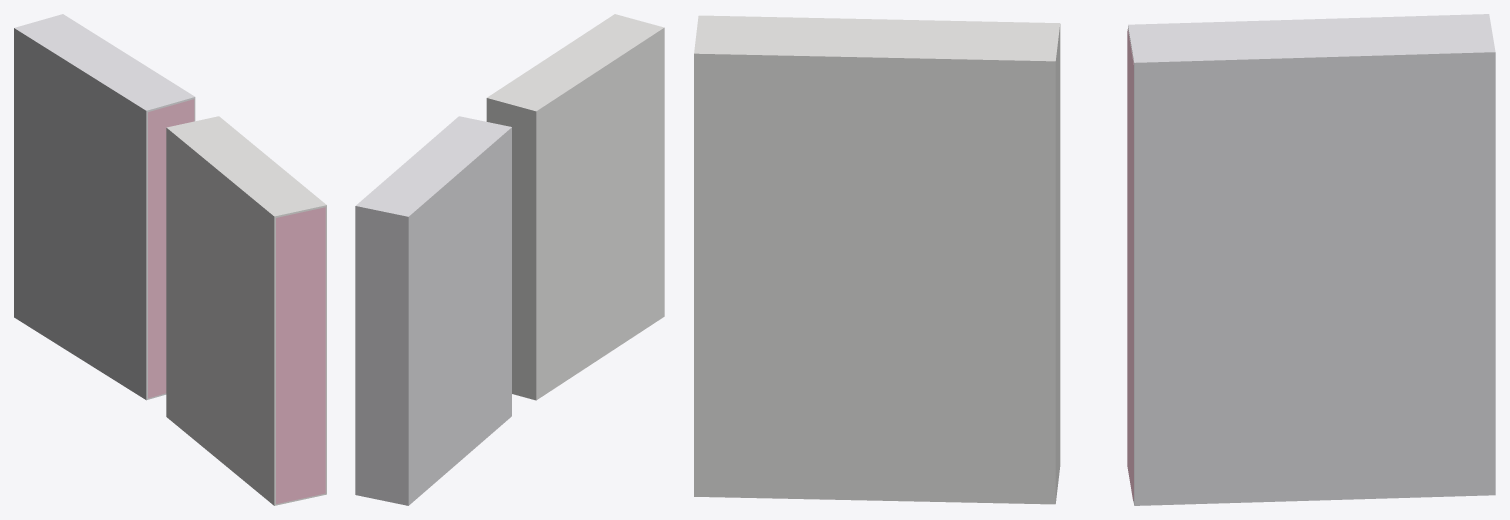
Rendered from season-greetings.glb.
The picture shows the model from 3 angles, left to right: view 1: azimuth 30°, elevation 25°; view 2: azimuth 150°, elevation 25°; view 3: azimuth 270°, elevation 25°; orthographic projection. The views are drawn at different scales.
Parts seen in each view (by area): view 1: season-greetings, sg-twice-tranche, sg-nmixx-tranche; view 2: season-greetings; view 3: sg-twice-face, sg-nmixx-face, season-greetings, sg-nmixx-tranche.
Boxes of the visible parts, box(x1,y1,x2,y2) form: season-greetings: box(14, 14, 326, 505); sg-twice-tranche: box(276, 207, 325, 503); sg-nmixx-tranche: box(148, 99, 194, 398); season-greetings: box(355, 14, 664, 505); sg-twice-face: box(696, 56, 1052, 502); sg-nmixx-face: box(1137, 55, 1492, 503); season-greetings: box(694, 14, 1495, 505); sg-nmixx-tranche: box(1127, 29, 1133, 500).
Size of the model in its own units: 0.0642 by 0.27 by 0.443.
